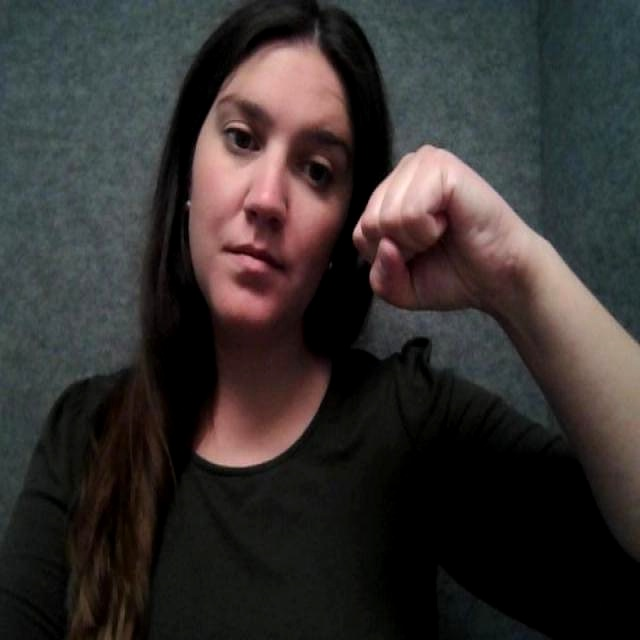Rock: (346, 132, 539, 332)
